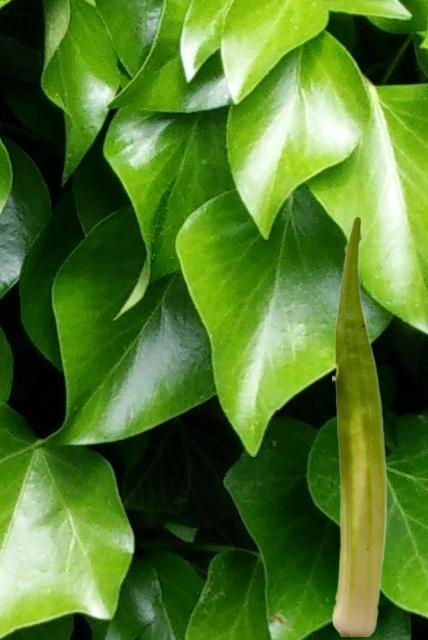okra: (332, 215, 386, 635)
